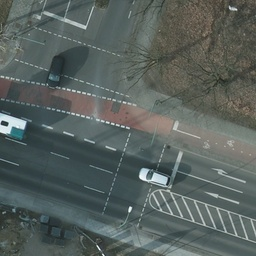car: (139, 167, 171, 186), (49, 58, 63, 89)
